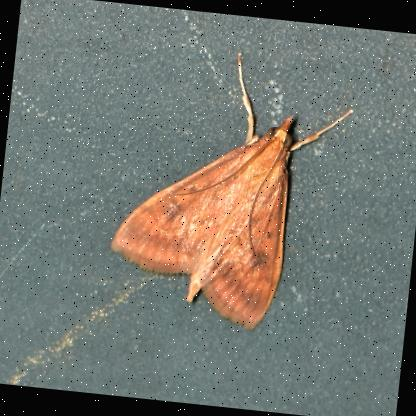Asian Corn Borer Moth: (100, 36, 360, 342)
